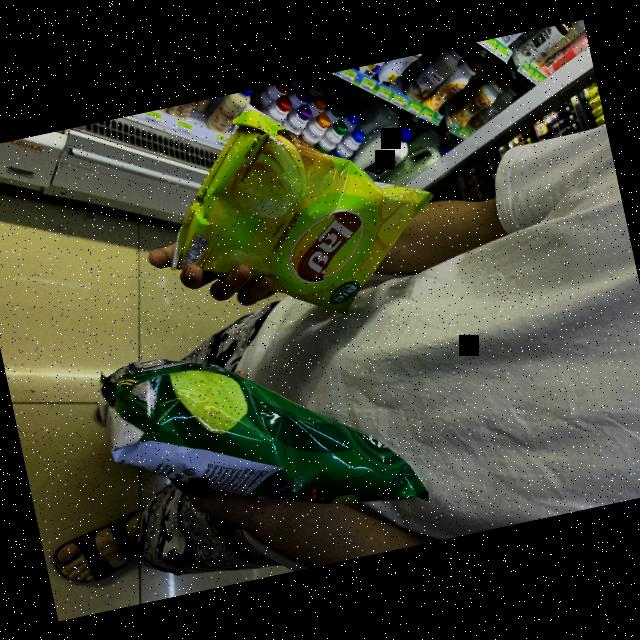snack_bag: (76, 290, 442, 580), (150, 69, 460, 365)
